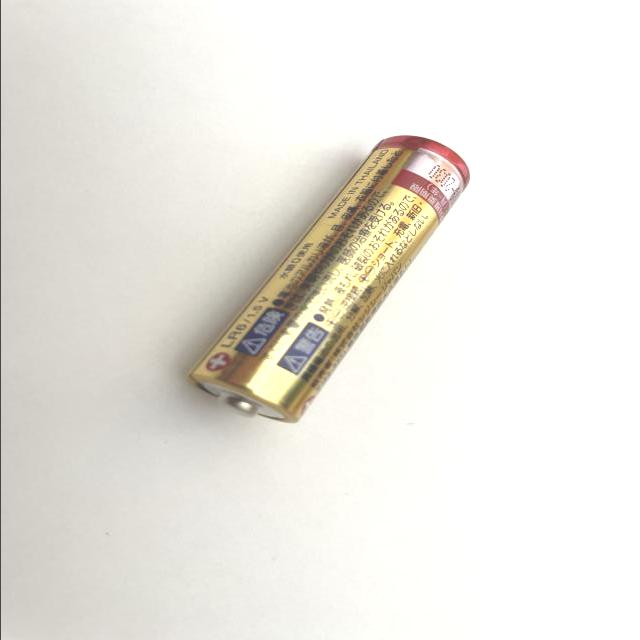AA: (183, 132, 472, 426)
